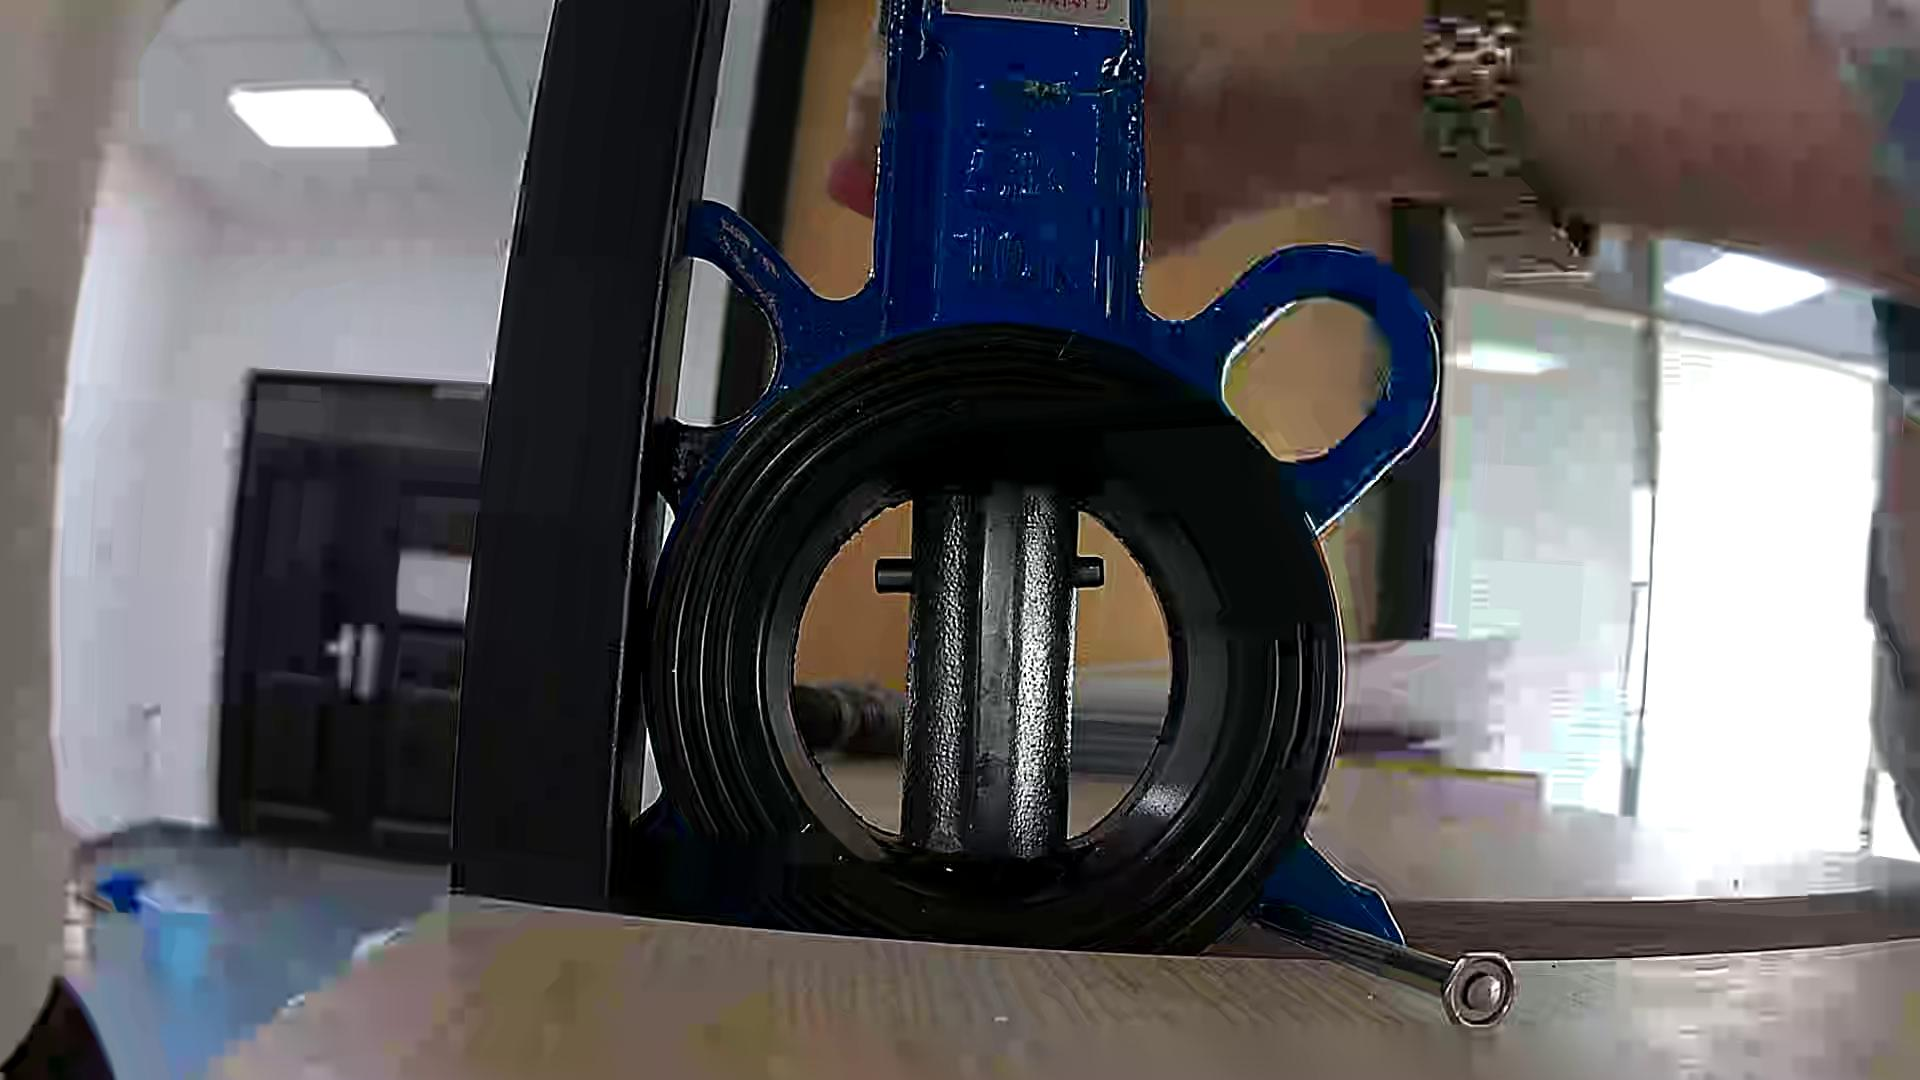valve: (903, 480, 1079, 858)
